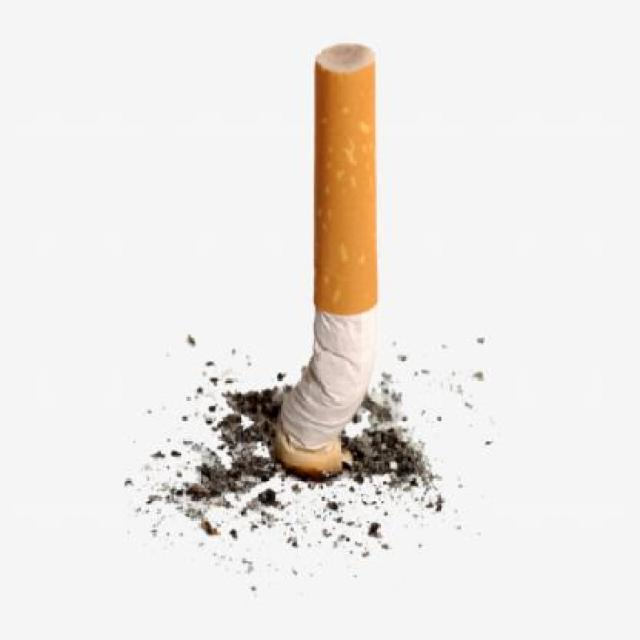cigarette: (268, 52, 386, 477)
